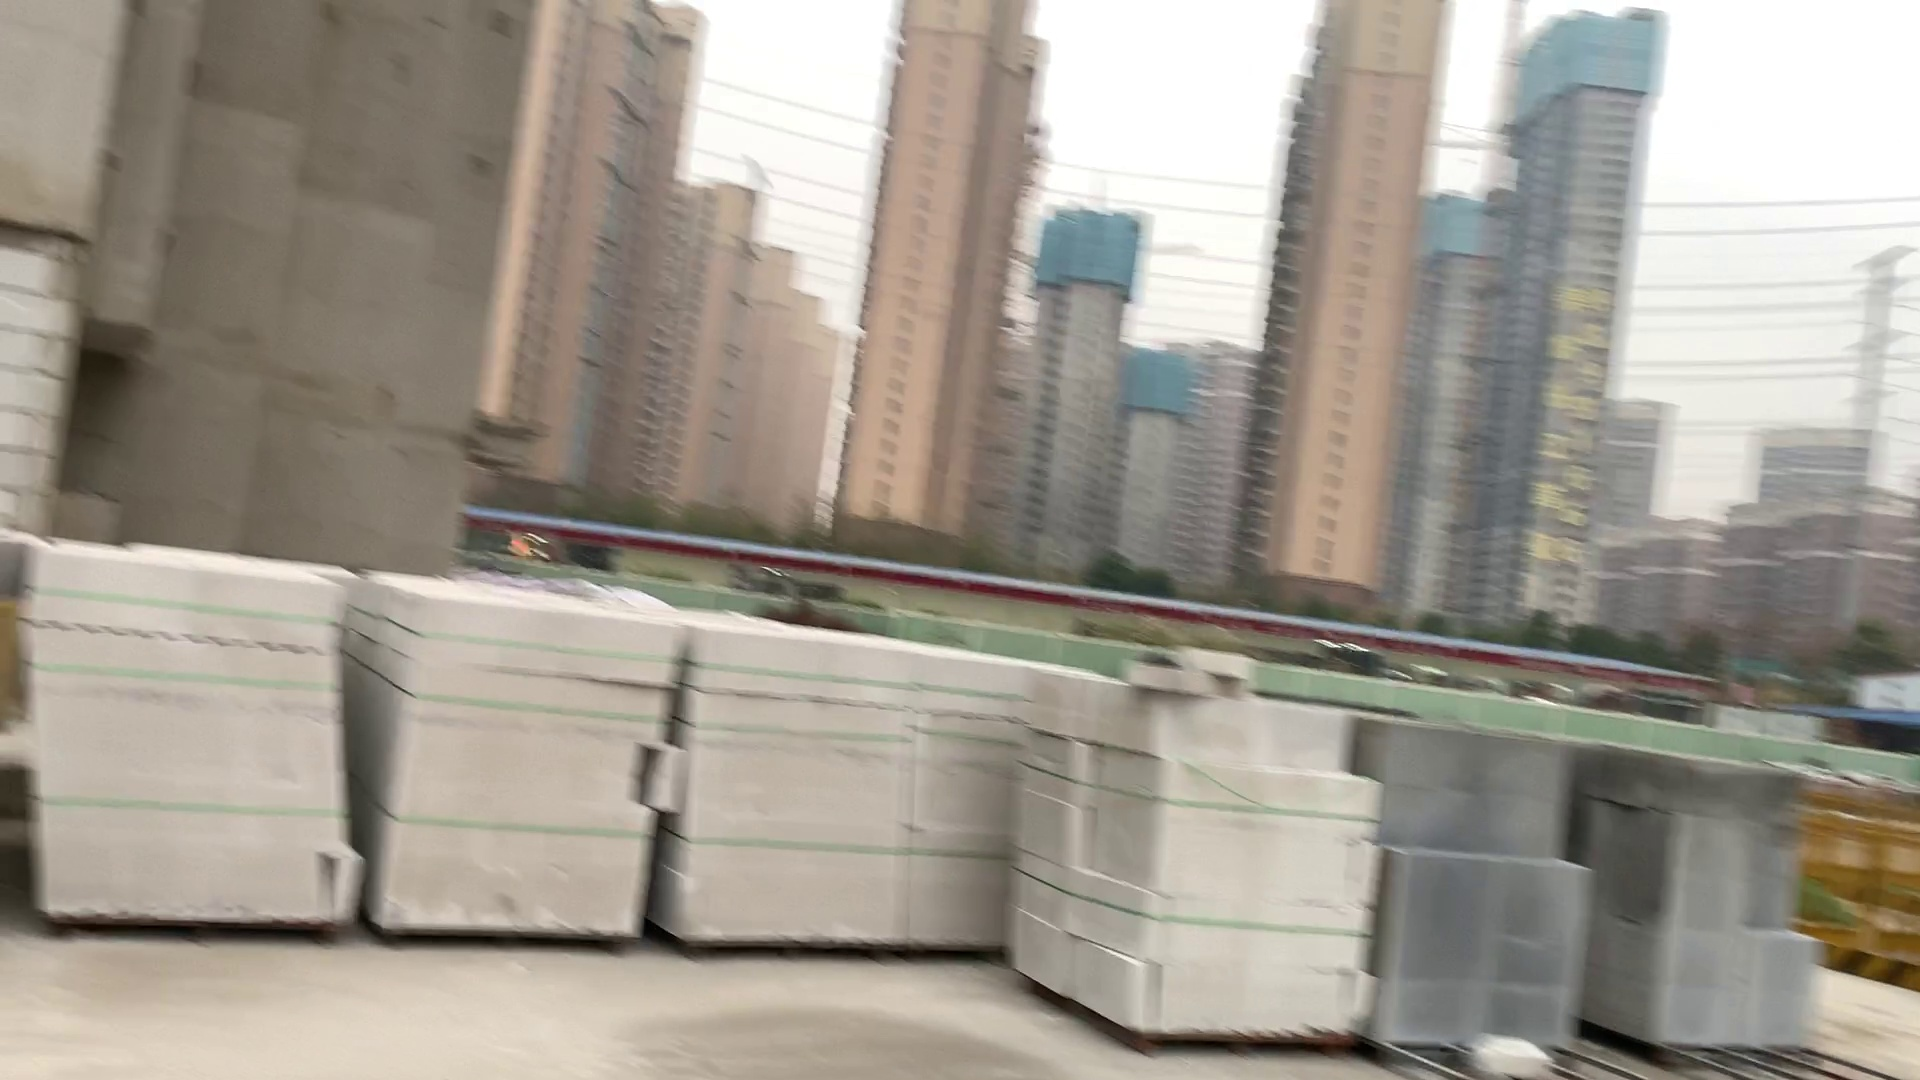brickwork: (1018, 666, 1379, 1052), (20, 541, 357, 942), (365, 572, 670, 945), (1358, 712, 1600, 1056), (683, 629, 911, 961), (1597, 764, 1818, 1038), (907, 650, 1031, 949)
